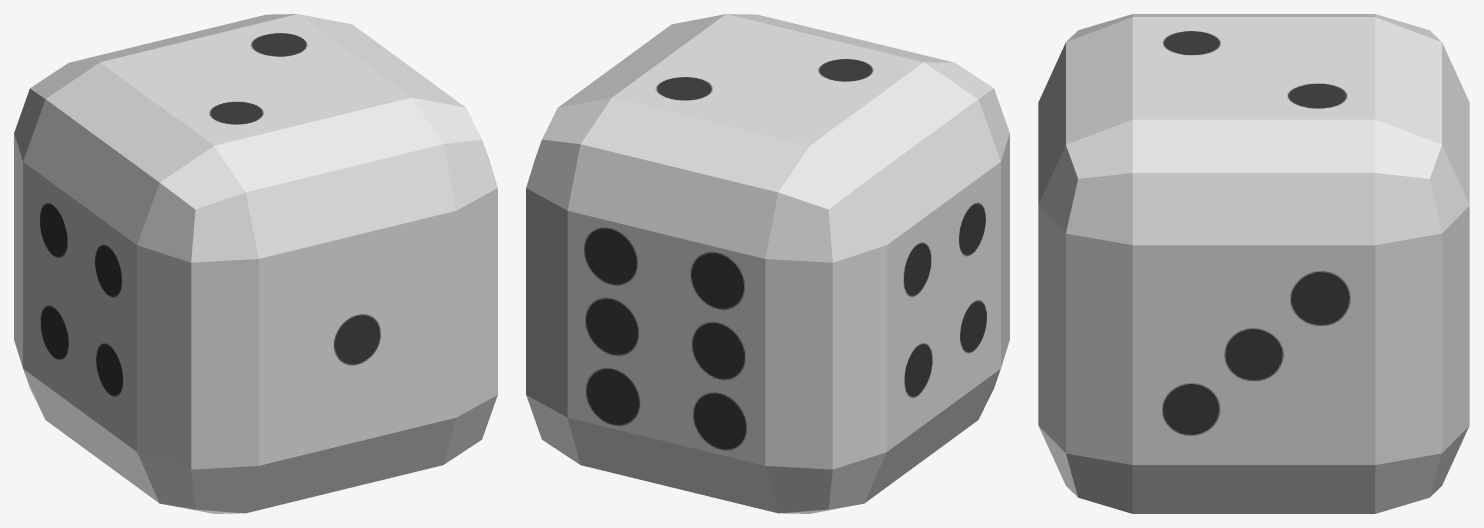
File: SqrDice.fbx
The picture shows the model from 3 angles, left to right: view 1: azimuth 30°, elevation 25°; view 2: azimuth 150°, elevation 25°; view 3: azimuth 270°, elevation 25°; orthographic projection. The views are drawn at different scales.
Parts seen in each view (by area): view 1: dice; view 2: dice; view 3: dice.
Part boxes in pixels (x1,y1,x2,y2): dice: (14, 14, 497, 513); dice: (526, 14, 1009, 513); dice: (1038, 14, 1469, 513).
Bounding box in the file's own units: 200 × 200 × 200.
